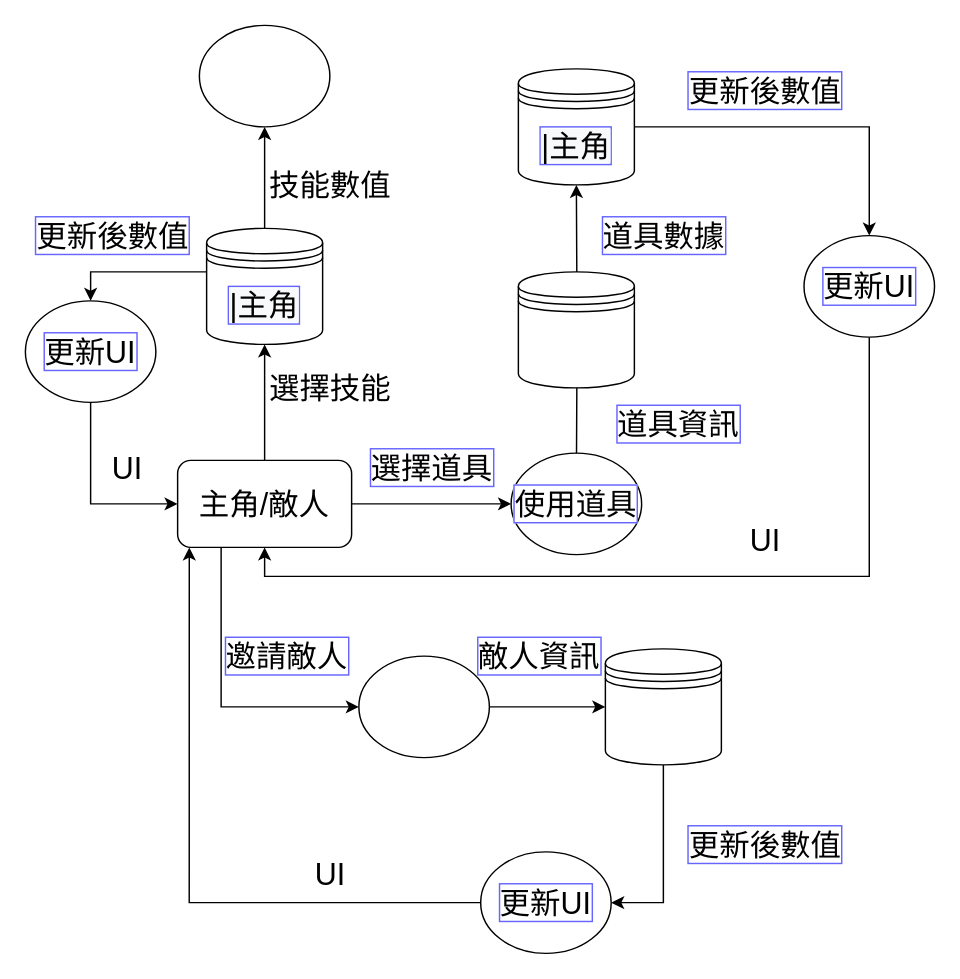
This 960x979 diagram has some shape labels left out. The centre of each missing label's shape, as x and y in pixels:
|小隊: (x=662, y=706)
|道具: (x=575, y=329)
使用技能: (x=264, y=75)
成功邀請: (x=423, y=706)
